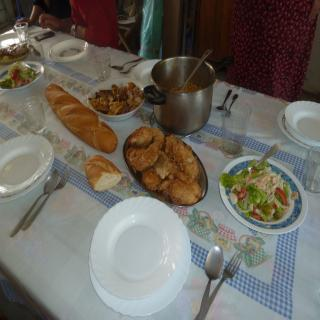Salad: (218, 160, 304, 228), (0, 64, 37, 88)
